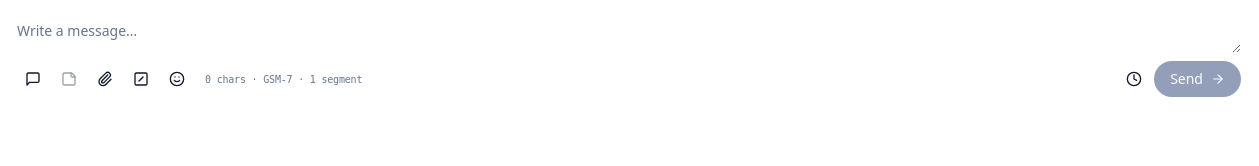
Test: P26 verify - composer › clicking a quick-pick entry returns focus to the message field
Type "/gre" into the text box labelled "message" at (629, 35), box [17,17,1241,53]
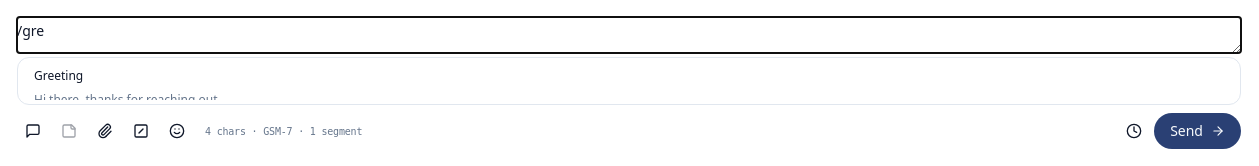
Expected: the list named "Insert a saved reply" is shown, [17,57,1241,105]
Click the option "Greeting Hi there, thanks for reaching out." at (59, 76), box [22,68,1236,100]
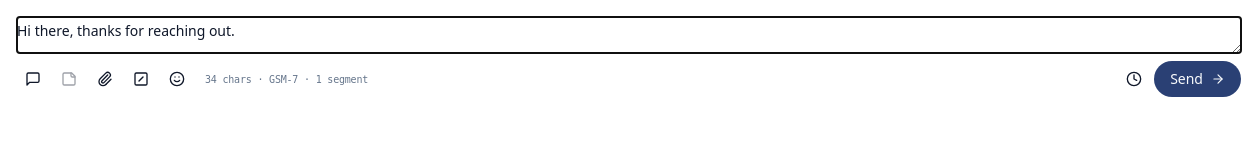
Expected: the text box named "message" holds "Hi there, thanks for reaching out.", [17,17,1241,53]
